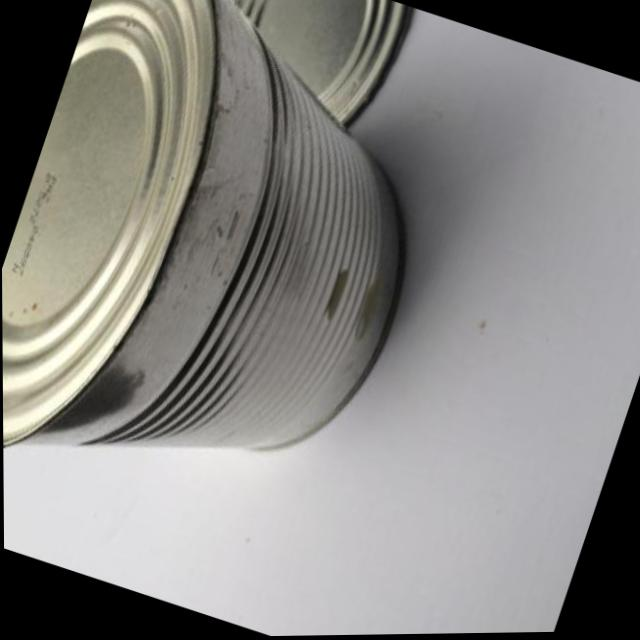metal: (3, 0, 403, 449)
